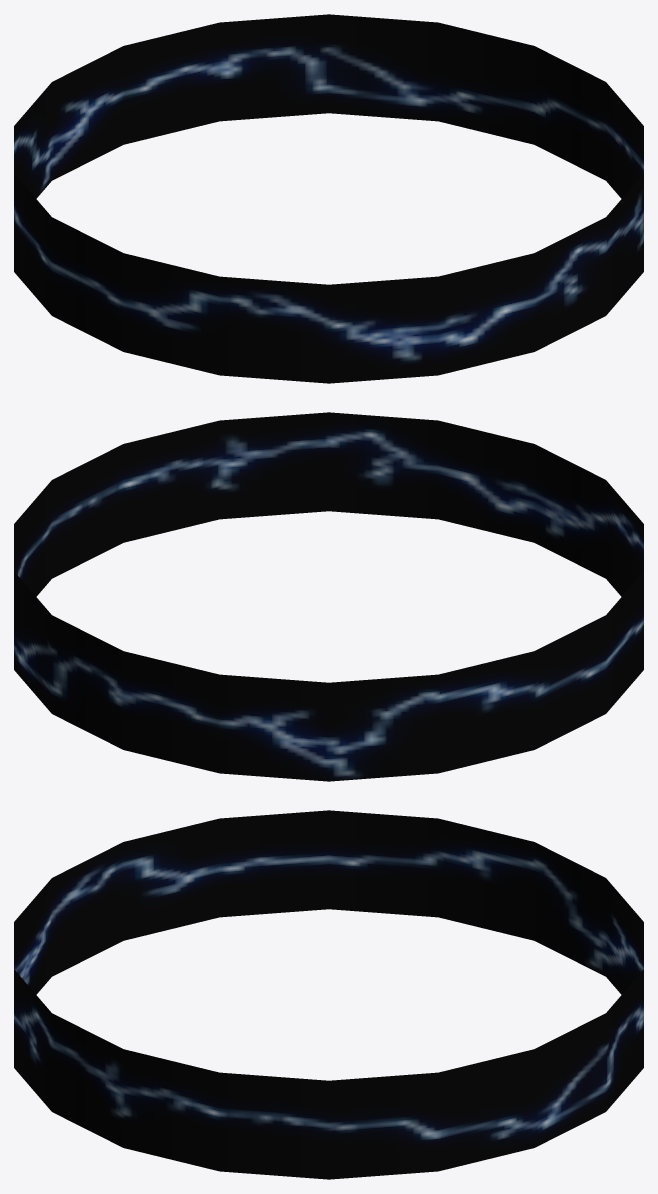
The model's file is mage_skill3_hit.FBX.
3 renders of one model, top to bottom at view 1: azimuth 30°, elevation 25°; view 2: azimuth 150°, elevation 25°; view 3: azimuth 270°, elevation 25°, orthographic.
Visible parts, largest first — view 1: Cylinder001; view 2: Cylinder001; view 3: Cylinder001.
Boxes of the visible parts, left/top/right/bottom form: Cylinder001: left=14, top=14, right=643, bottom=383; Cylinder001: left=14, top=412, right=643, bottom=781; Cylinder001: left=14, top=810, right=643, bottom=1179.
Size of the model in its own units: 49.59 by 8.46 by 48.84.
